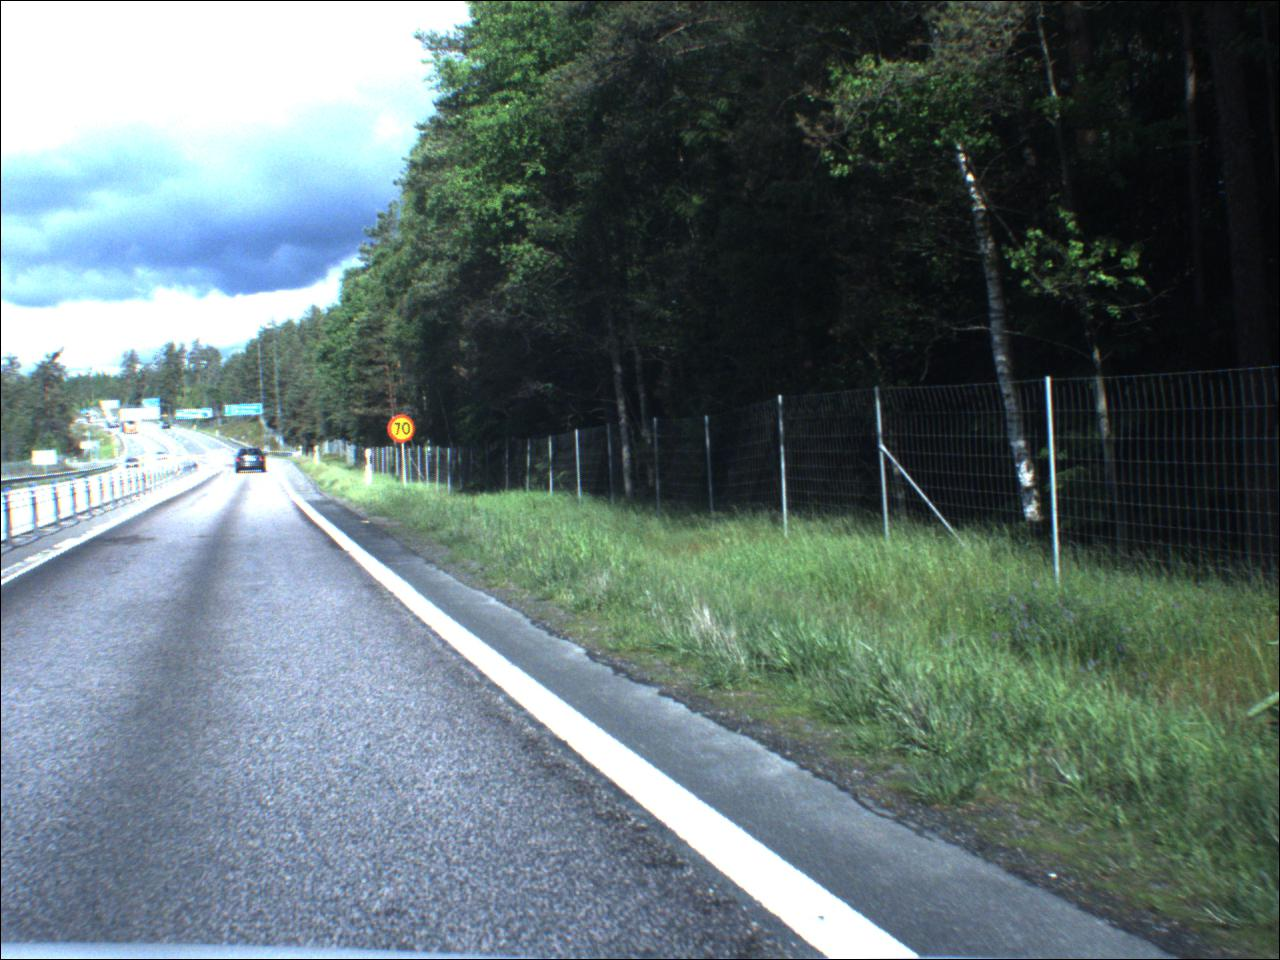70_SIGN: (390, 415, 419, 445)
